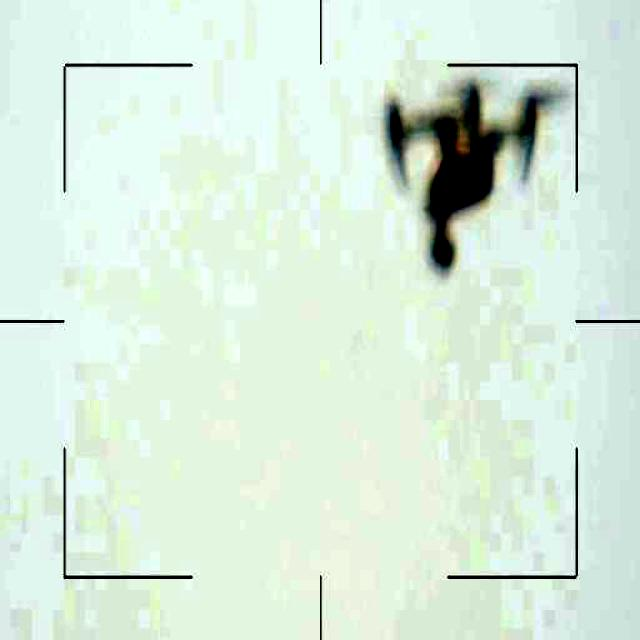bird: (372, 51, 539, 254)
